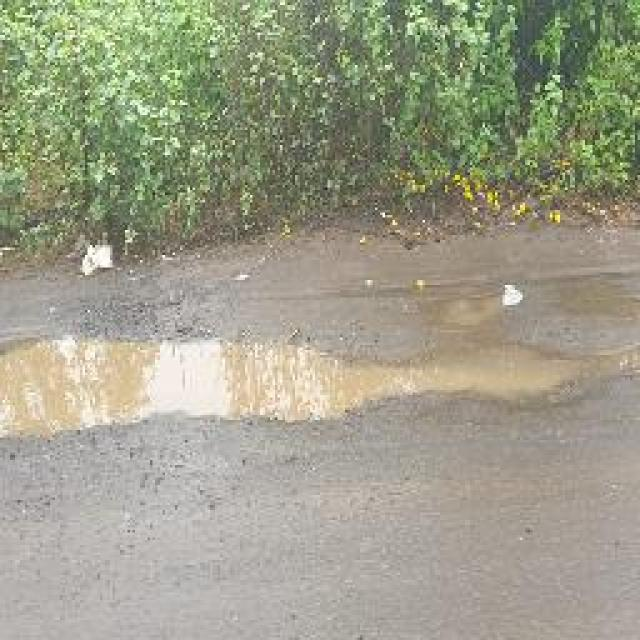puddle: (3, 335, 599, 448)
